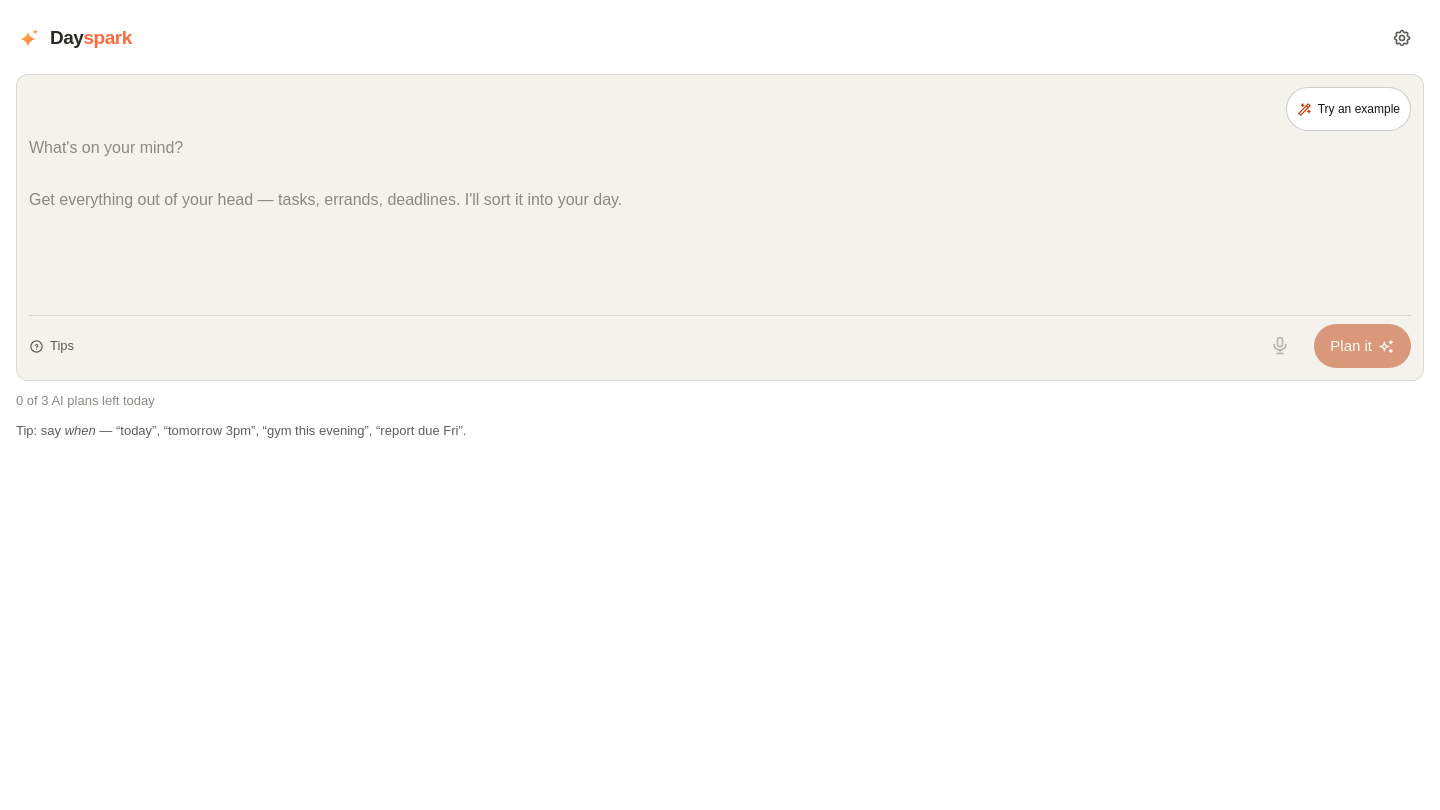
Test: CaptureFlow › blocks Plan it with the limit sheet when a non-Pro user is out of inputs
Type "something" into the text box named "brain dump" at (720, 223), box 29,135 -> 1411,311
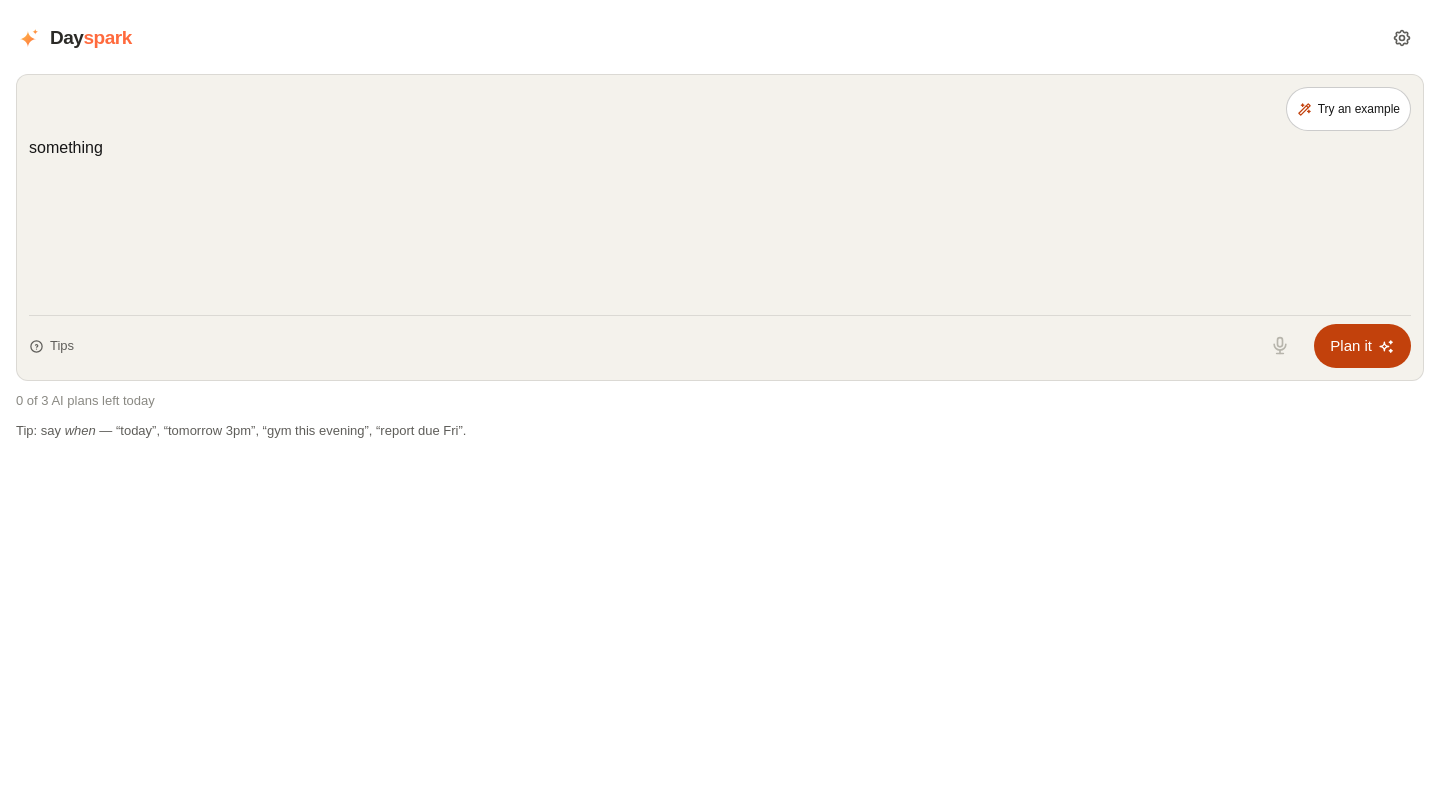
Click the button "Plan it" at (1363, 346), box 1314,324 -> 1411,368
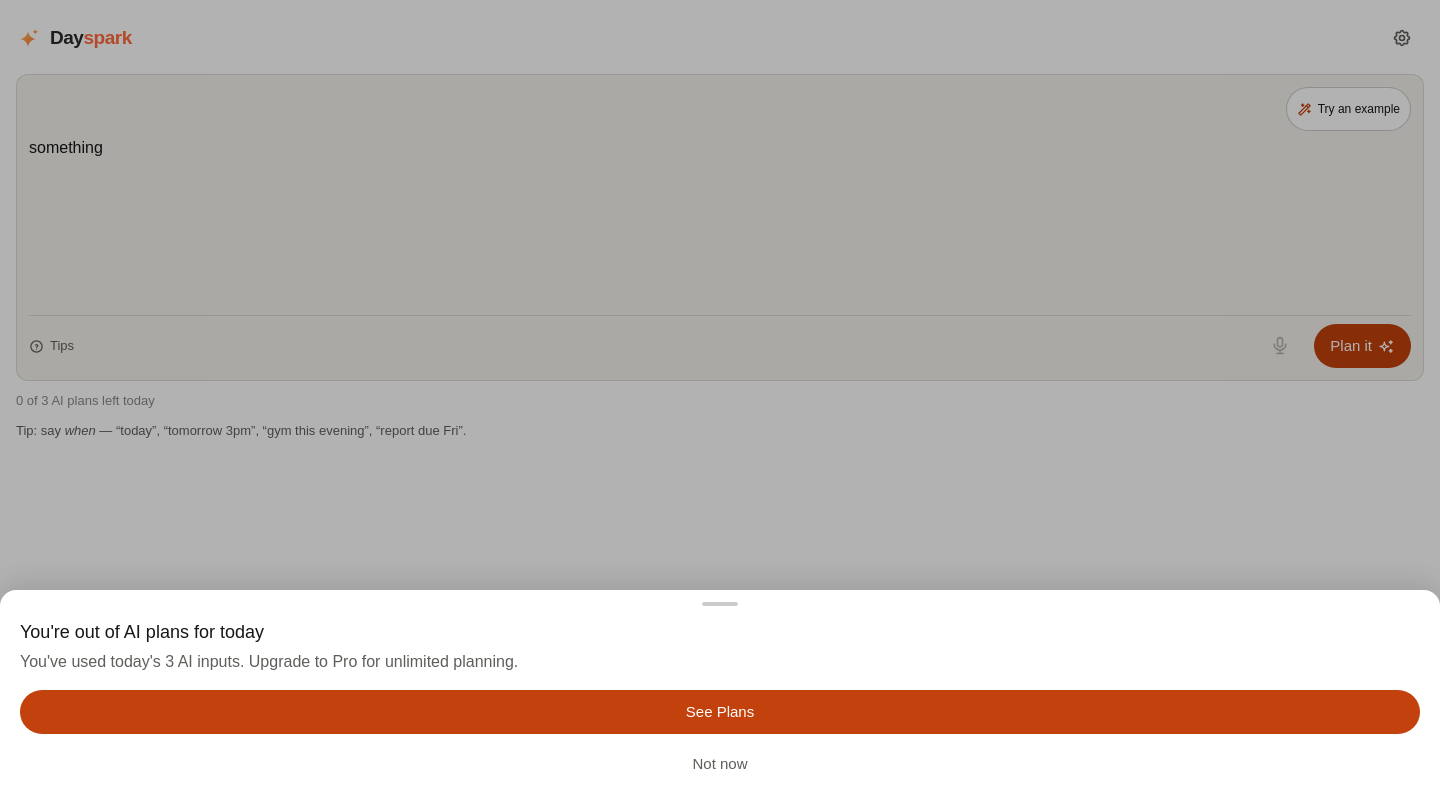
expect the heading "You're out of AI plans for today" is shown: met, box 20,622 -> 264,642
